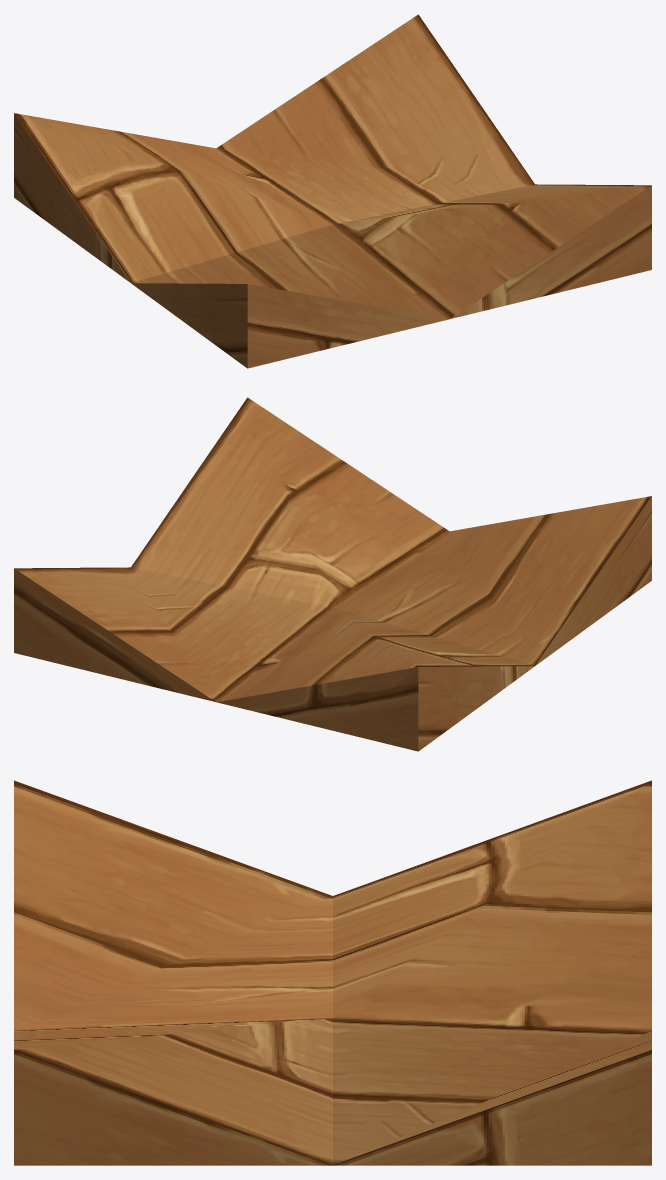
File: GroundTile5x5Cross.fbx
3 renders of one model, top to bottom at view 1: azimuth 30°, elevation 25°; view 2: azimuth 150°, elevation 25°; view 3: azimuth 270°, elevation 25°, orthographic. The views are drawn at different scales.
Visible parts, largest first — view 1: Cube; view 2: Cube; view 3: Cube.
Part boxes in pixels (x1,y1,x2,y2): Cube: [14, 14, 651, 368]; Cube: [14, 397, 651, 751]; Cube: [14, 780, 651, 1165].
Bounding box in the file's own units: 1000 × 200 × 1000.
